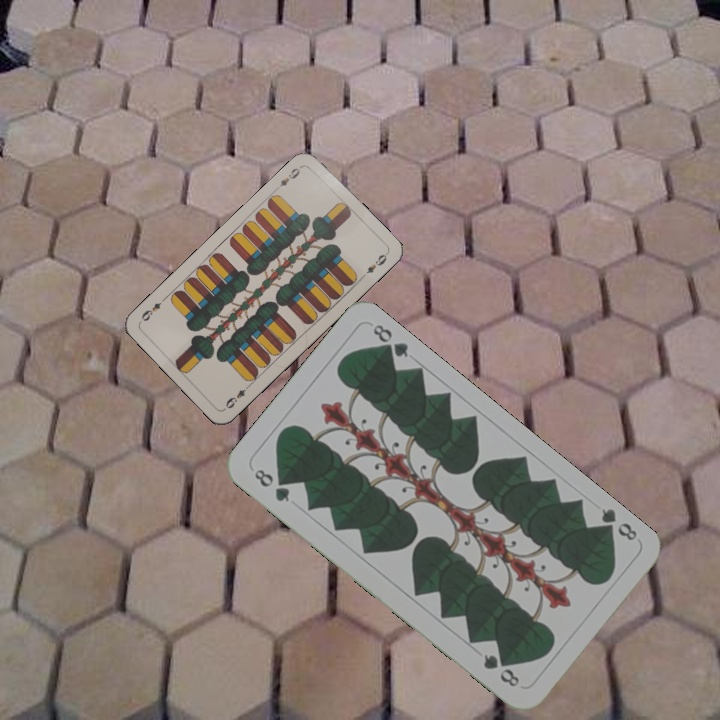E9: (272, 162, 305, 193), (222, 380, 253, 411)
G8: (594, 504, 640, 544), (250, 464, 292, 505)
